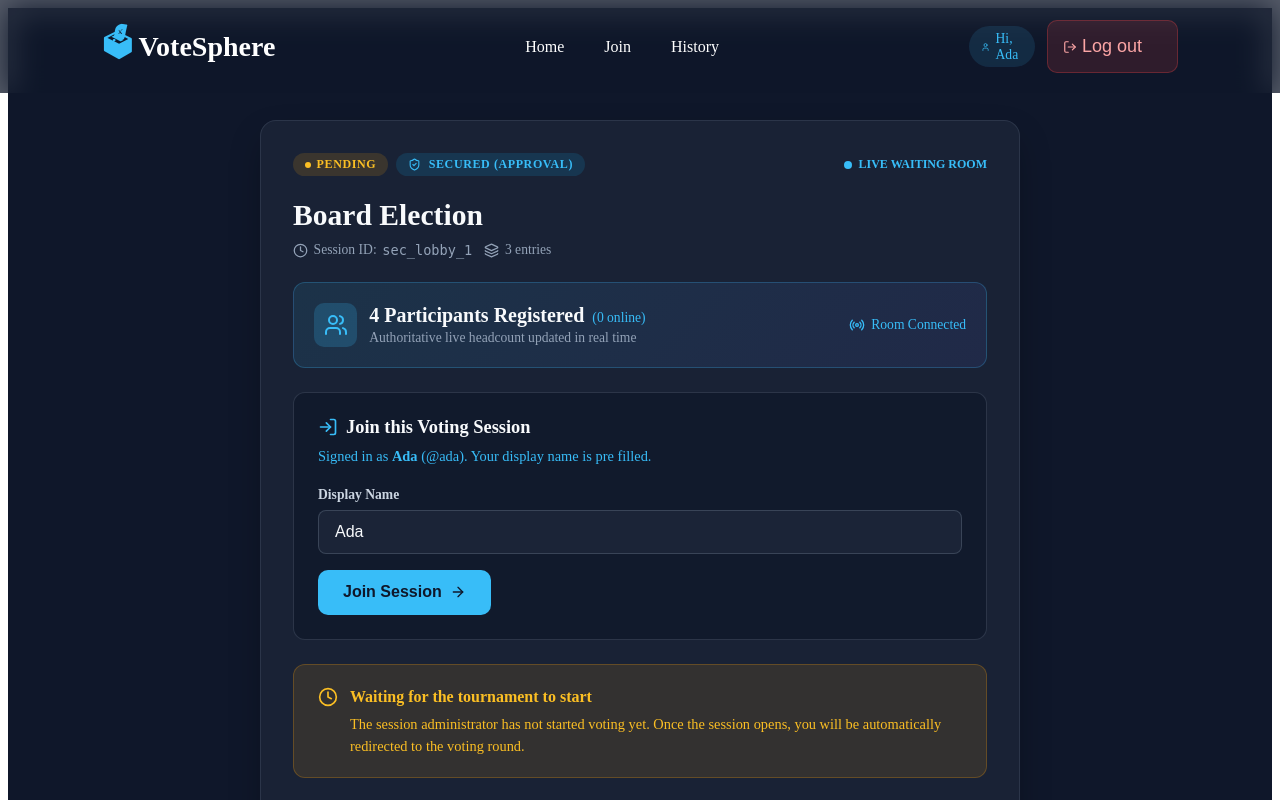
Test: Secured session lobby join form (AC-5, AC-15) › reports a not on allowlist refusal in plain words
Click the button "Join Session" at (404, 592), box [318,570,491,615]
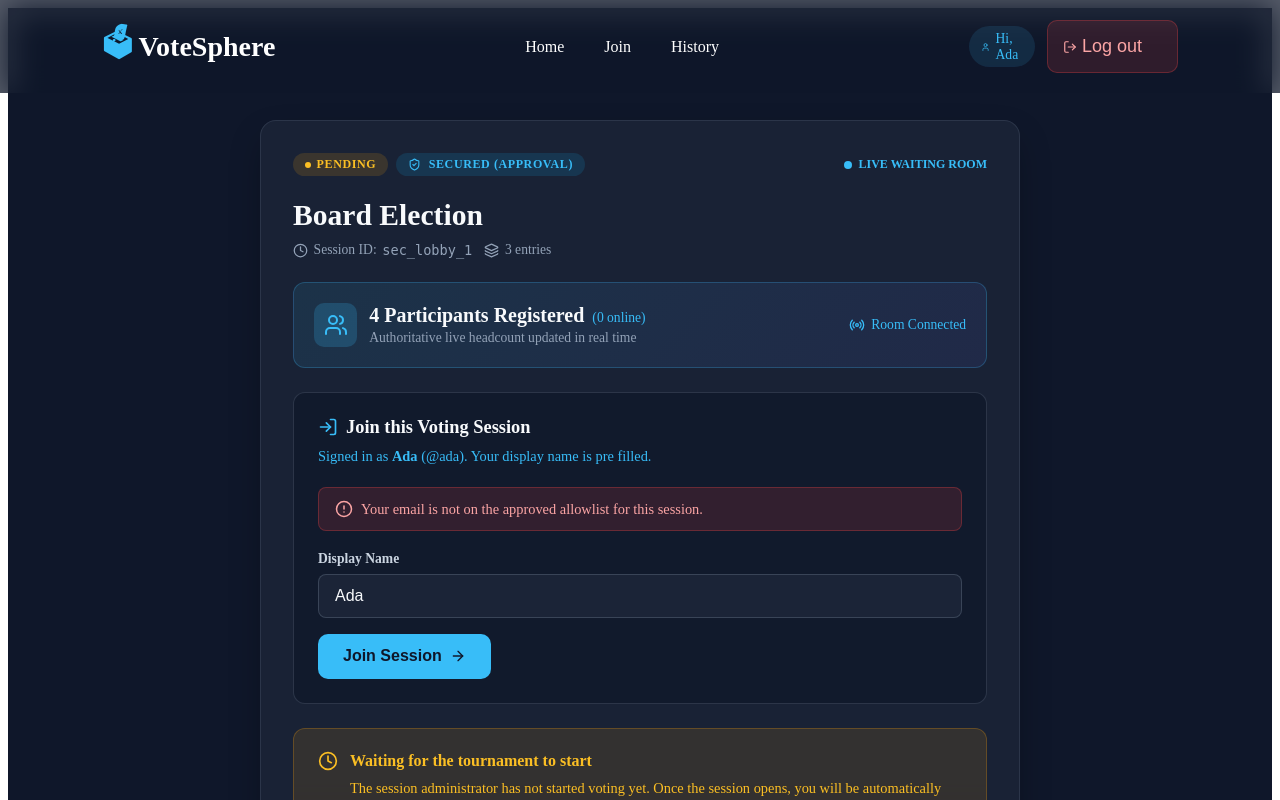
Check: the message shows "not on the approved allowlist", box [361,501,703,517]
